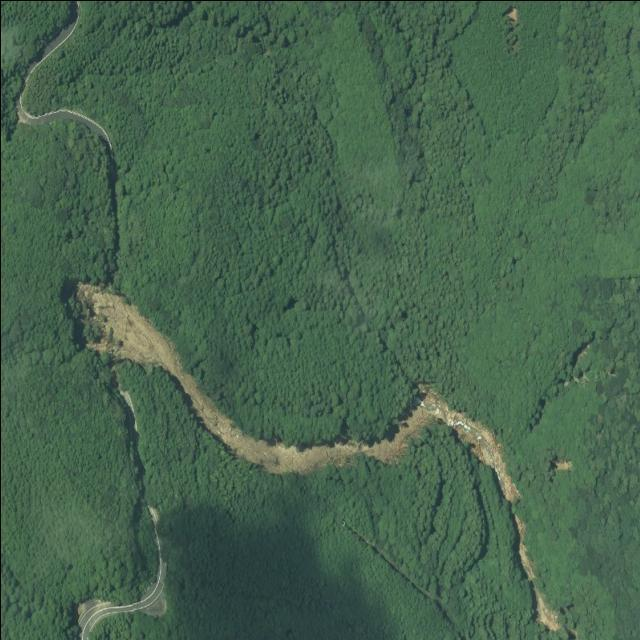landslide: (76, 282, 520, 503), (515, 517, 560, 630)
